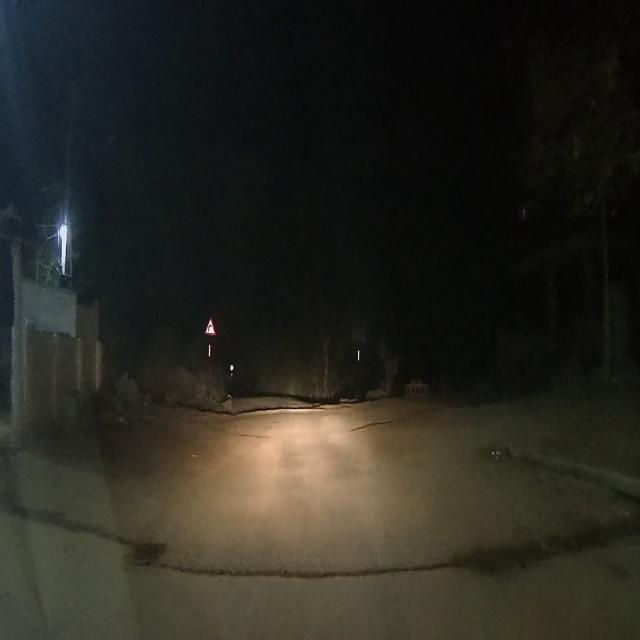right-hand-curve: (205, 316, 215, 334)
